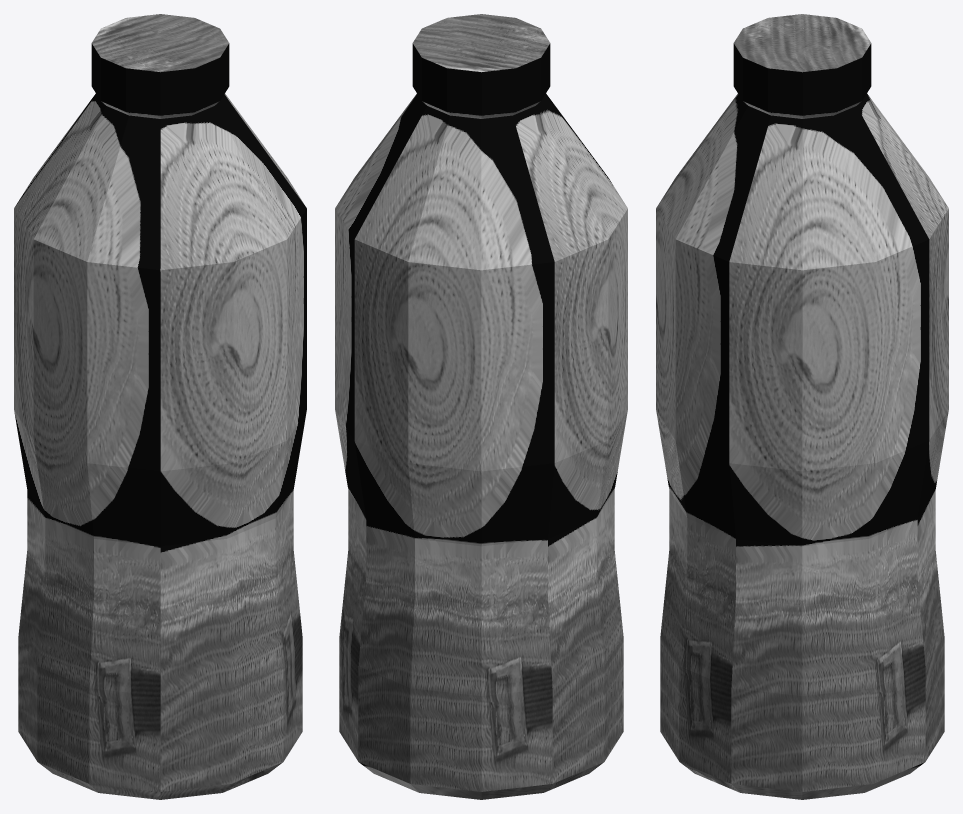
The model's file is waterbottle.fbx.
3 renders of one model, left to right at view 1: azimuth 30°, elevation 25°; view 2: azimuth 150°, elevation 25°; view 3: azimuth 270°, elevation 25°, orthographic.
Visible parts, largest first — view 1: water_bottle; view 2: water_bottle; view 3: water_bottle.
Part boxes in pixels (x1,y1,x2,y2): water_bottle: (14, 14, 306, 799); water_bottle: (335, 14, 627, 799); water_bottle: (656, 14, 948, 799).
Size of the model in its own units: 6.39 by 16.96 by 6.39.
